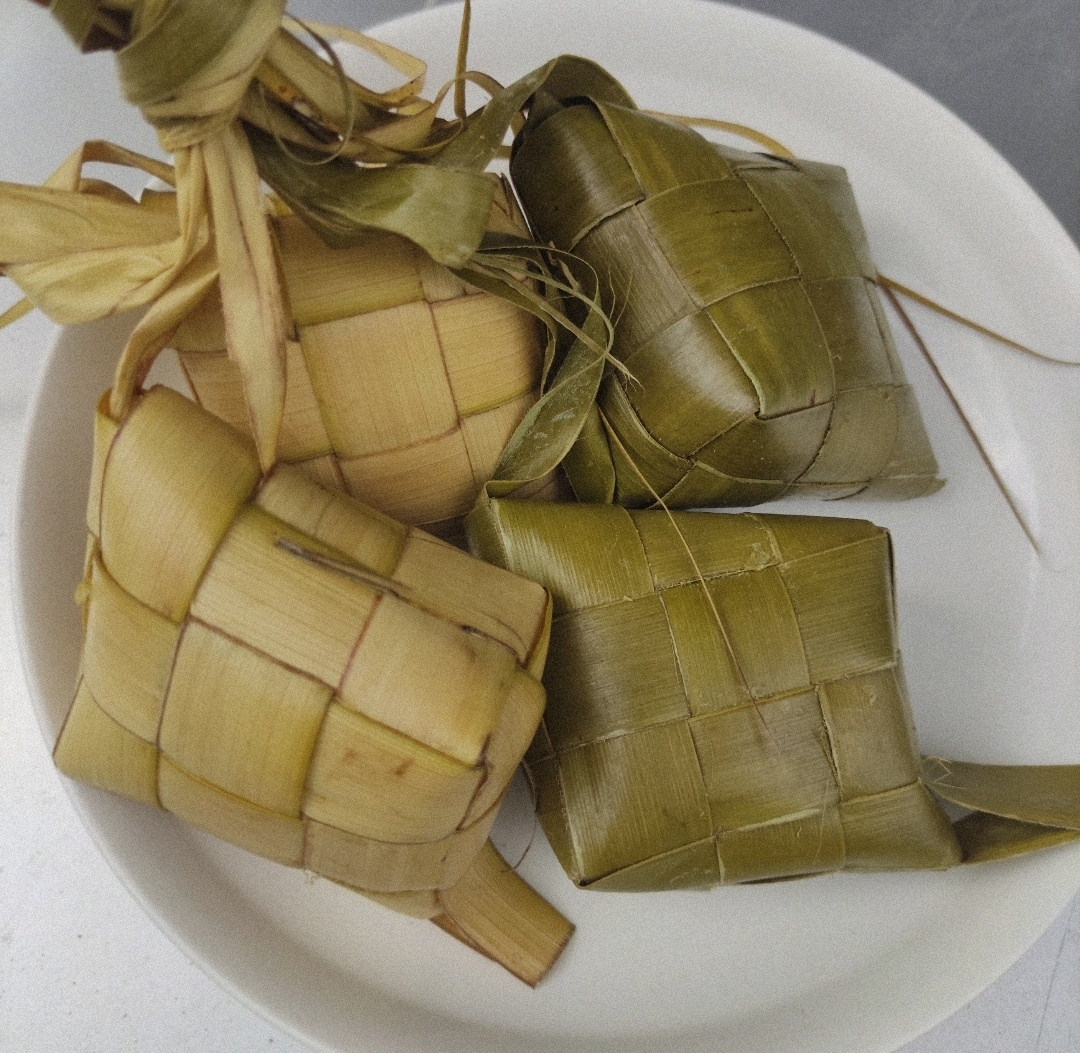ketupat: (42, 387, 558, 922), (468, 494, 966, 895), (511, 80, 949, 511)
